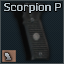P226 Emperor Scorpion pistol grip: (0, 0, 64, 64)
